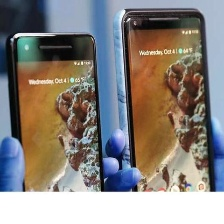phone: (110, 4, 219, 218), (2, 28, 109, 224)
